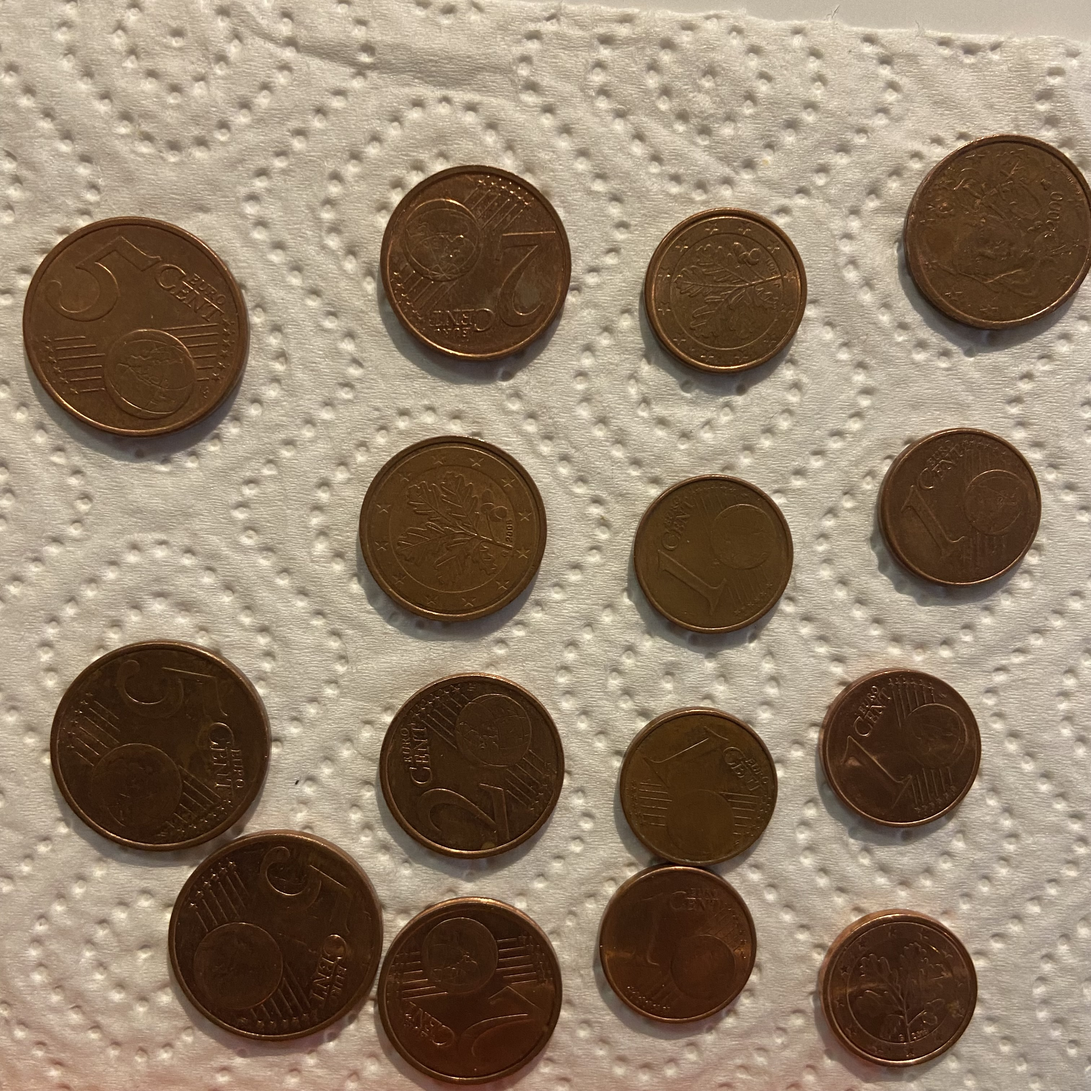1 cent: (644, 208, 807, 373), (824, 663, 984, 822), (634, 475, 793, 634), (818, 910, 977, 1069), (883, 428, 1043, 586), (619, 708, 777, 866), (599, 866, 757, 1023)
2 cent: (51, 641, 271, 850), (380, 165, 571, 361), (899, 138, 1090, 333), (359, 436, 546, 621), (378, 897, 562, 1083), (380, 673, 564, 858)
5 cent: (23, 216, 250, 437), (51, 641, 271, 851), (169, 831, 383, 1040)
